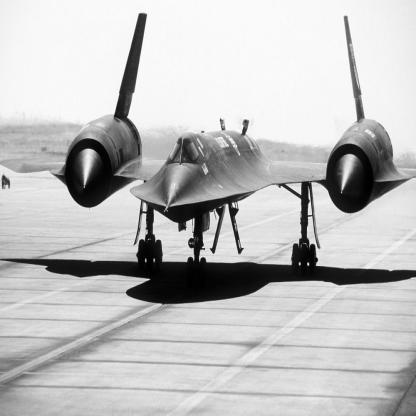SR71: (2, 13, 416, 286)
